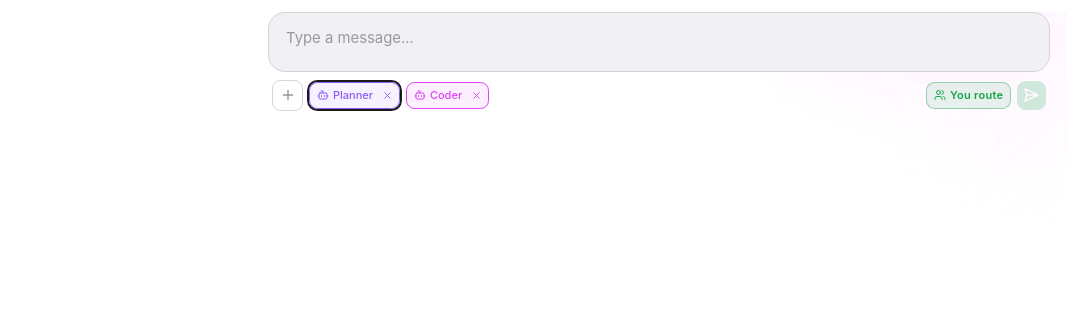
the agent chip menu › keeps the menu open with the reason when main refuses, and rolls the chips back
The image size is (1067, 335).
Right-click the element showing "Coder" at (448, 95), box top-left (406, 82), bottom-right (489, 109)
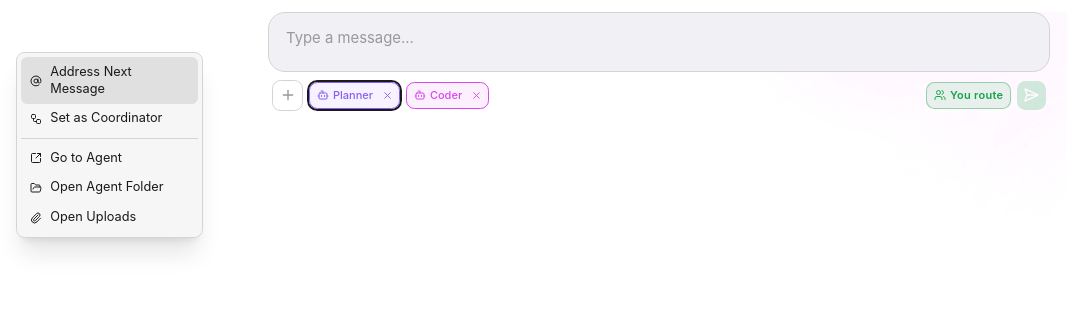
Click the menu item "Set as Coordinator" at (110, 119), box top-left (21, 104), bottom-right (198, 134)
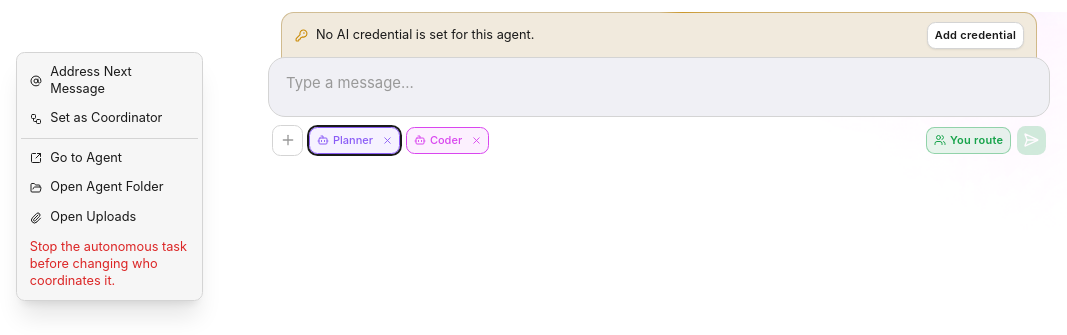
Check: the button named "Agent \"Coder\" attached as a participant" is shown, box top-left (414, 132), bottom-right (462, 149)
Check: the message "Stop the autonomous task before changing who coordinates it." is shown, box top-left (21, 232), bottom-right (198, 296)
